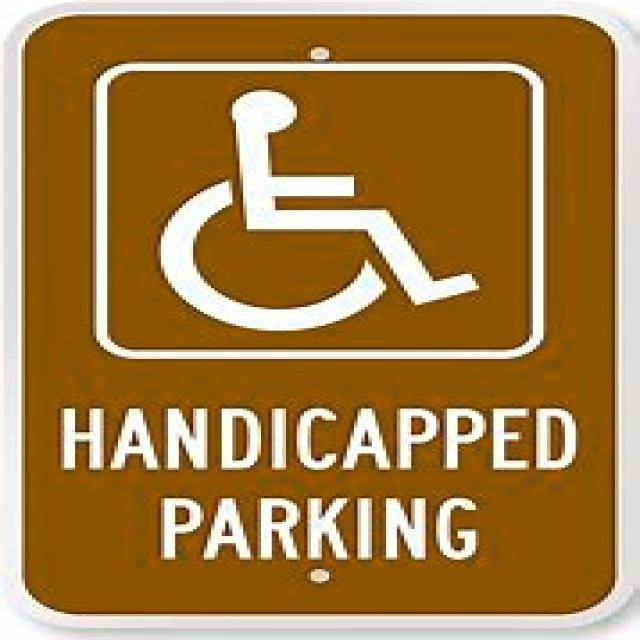ISA: (160, 93, 480, 334)
